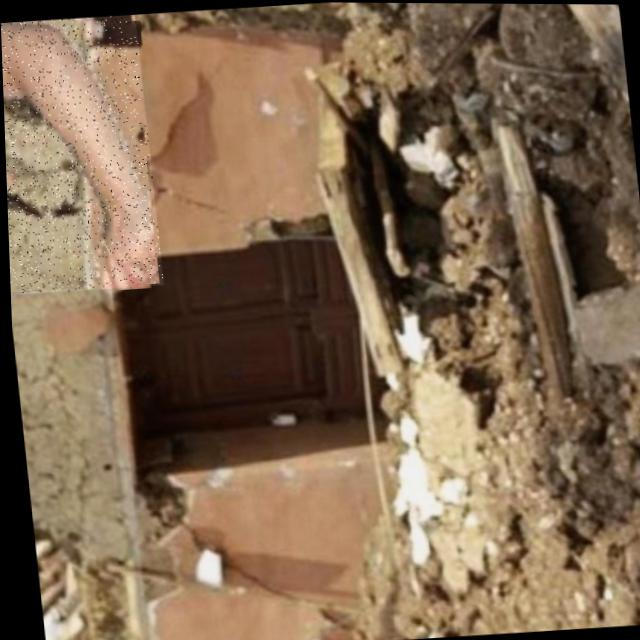Person in Rubble: (0, 12, 162, 294)
